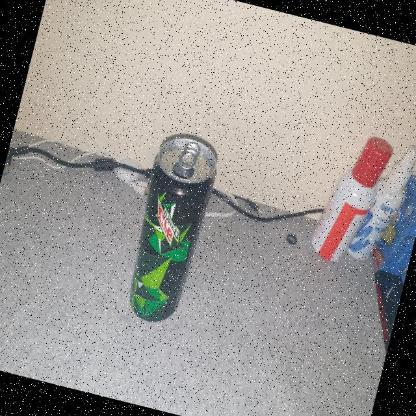Can: (112, 112, 230, 332)
